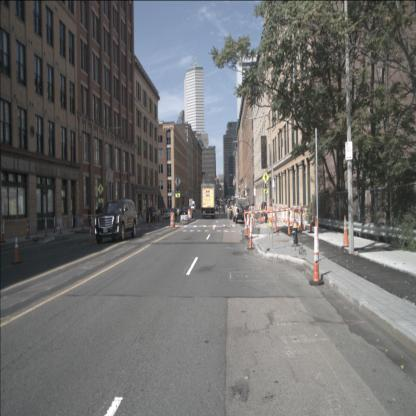human-pedestrian-adult: (88, 206, 92, 228)
movable_object-trafficcone: (309, 216, 324, 286), (12, 233, 22, 264), (341, 215, 350, 247), (247, 217, 254, 250), (308, 203, 314, 234), (299, 203, 305, 231), (246, 213, 252, 240), (287, 209, 292, 236), (244, 211, 249, 238), (1, 220, 6, 243), (25, 220, 31, 239), (52, 214, 57, 233), (58, 218, 63, 234), (44, 217, 48, 237), (274, 212, 278, 232), (170, 212, 175, 228), (70, 214, 74, 232), (81, 214, 85, 231), (89, 226, 93, 242), (90, 214, 94, 229), (148, 212, 151, 227), (188, 209, 191, 219)
vehicle-car: (95, 199, 138, 244), (233, 197, 252, 224), (229, 198, 244, 221), (164, 208, 172, 219), (219, 204, 225, 213), (214, 204, 219, 212)
vehicle-truck: (201, 183, 215, 219), (146, 206, 160, 222), (190, 201, 196, 212)
